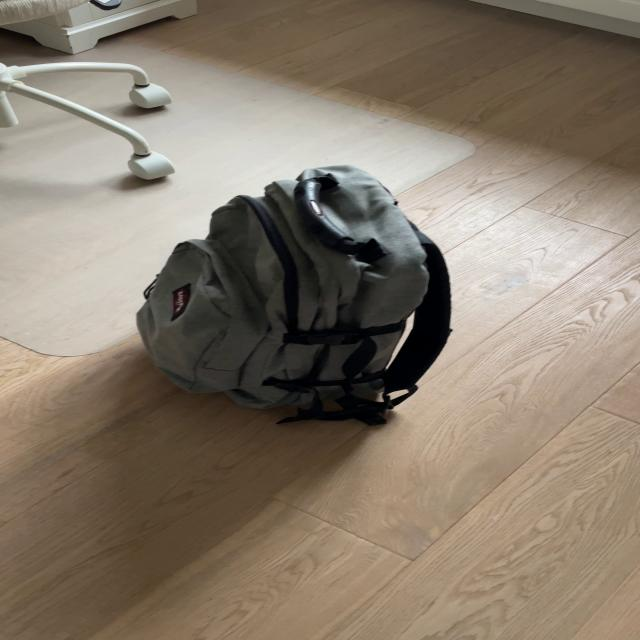backpack: (121, 153, 465, 428)
